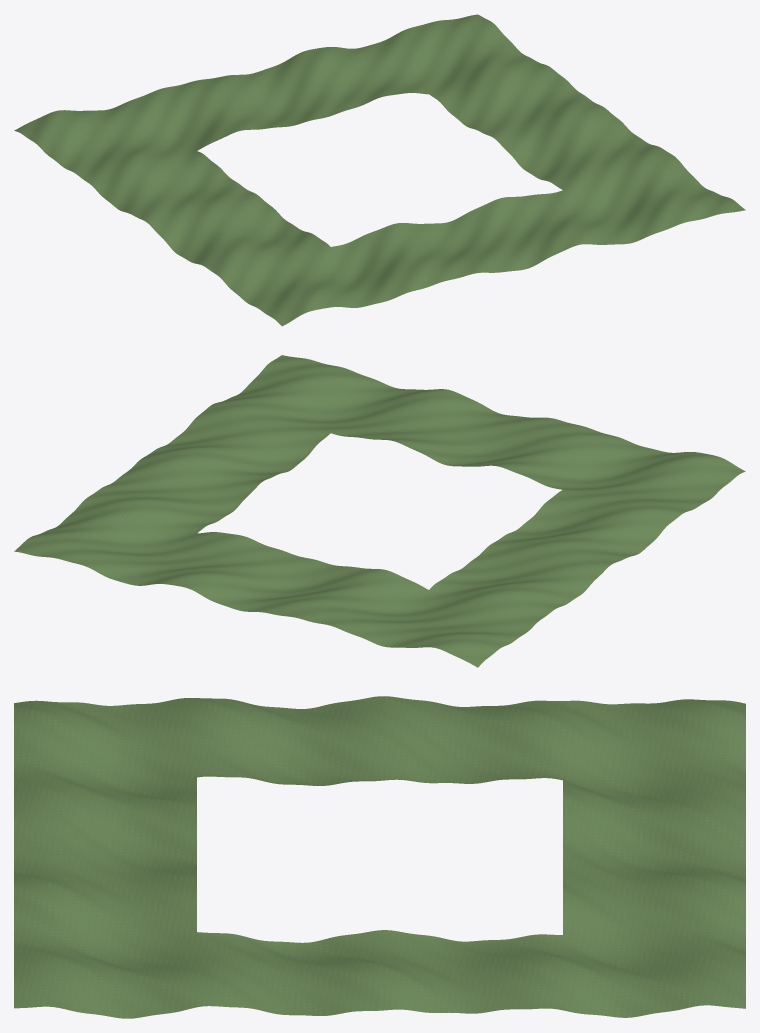
File: horizon.glb
The picture shows the model from 3 angles, top to bottom: view 1: azimuth 30°, elevation 25°; view 2: azimuth 150°, elevation 25°; view 3: azimuth 270°, elevation 25°; orthographic projection. The views are drawn at different scales.
Size of the model in its own units: 8000 by 289 by 8000.
Materials: 1 (1 with a texture image).
